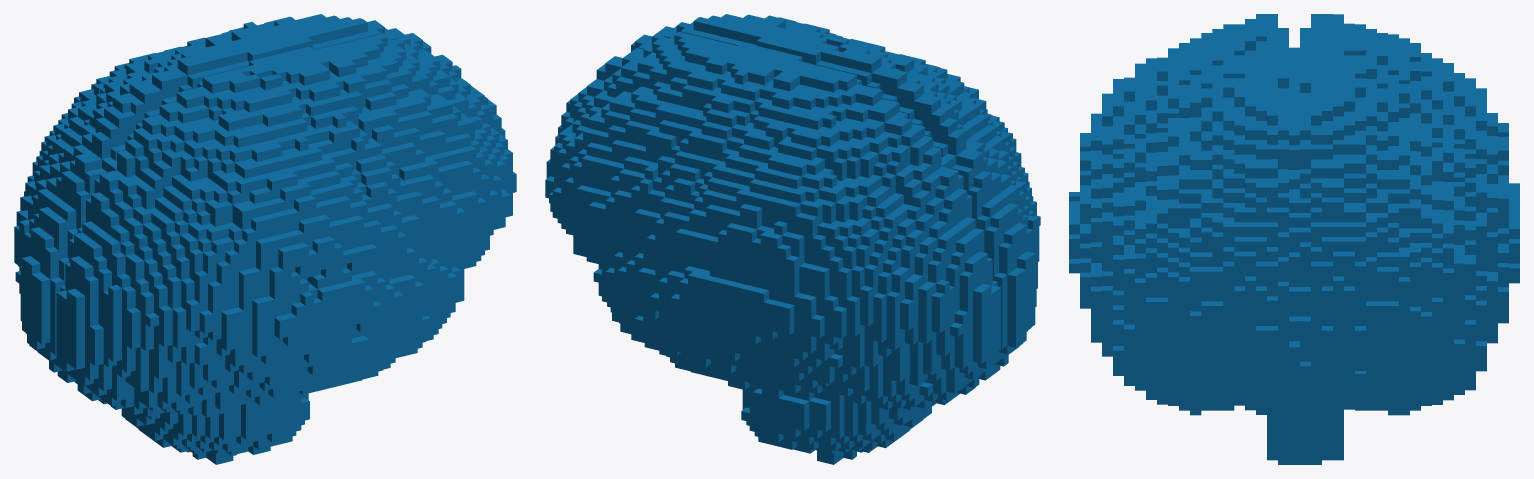
The model's file is asig_inteligenciaarti_01.gltf.
3 views of the same model, side by side, from view 1: azimuth 30°, elevation 25°; view 2: azimuth 150°, elevation 25°; view 3: azimuth 270°, elevation 25° (orthographic). The views are drawn at different scales.
Visible parts, largest first — view 1: CEREVTO-0-brain; view 2: CEREVTO-0-brain; view 3: CEREVTO-0-brain.
Part boxes in pixels (bbox=[...]): CEREVTO-0-brain: bbox=[14, 14, 516, 464]; CEREVTO-0-brain: bbox=[545, 14, 1040, 464]; CEREVTO-0-brain: bbox=[1069, 14, 1519, 464].
Bounding box in the file's own units: 5 × 4.3 × 4.1.
